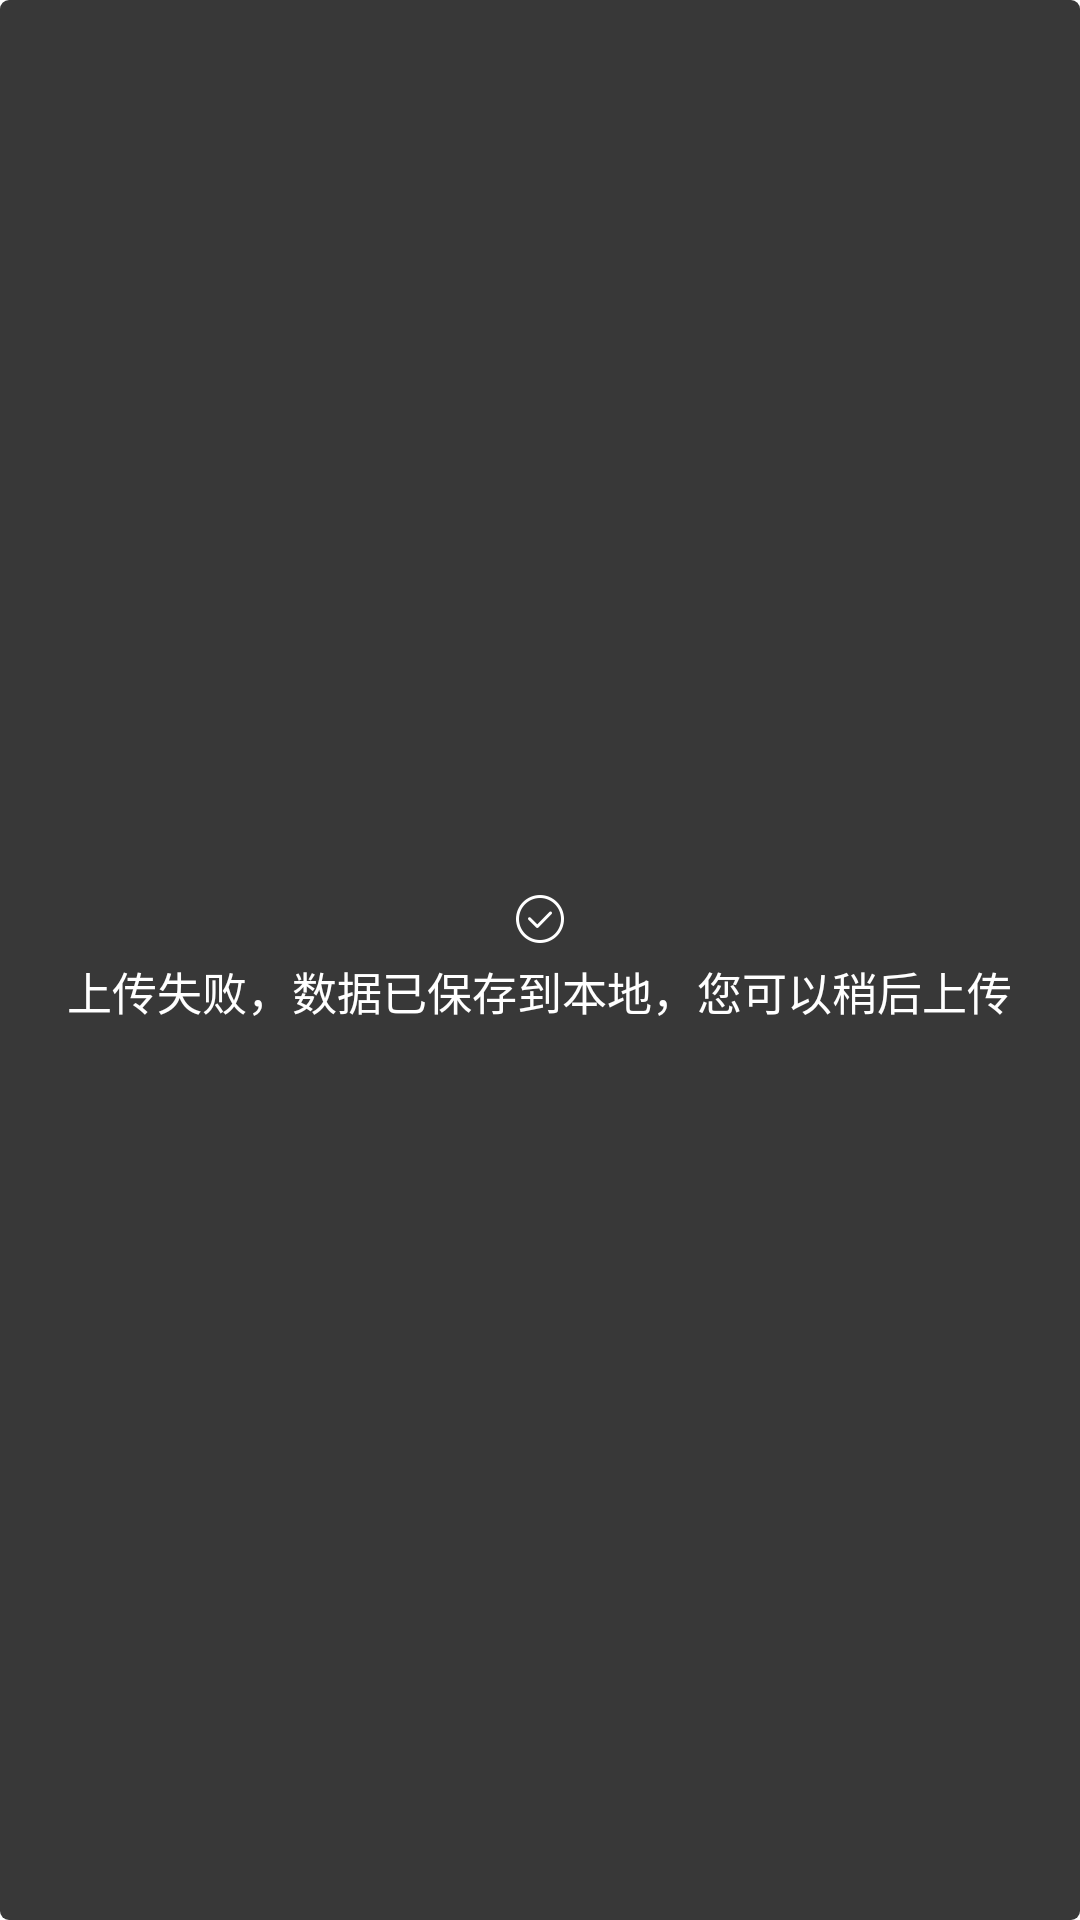

Screen size 1080*1920. Icon name, then its center in pixels as (x,y):
found toast ok: (540,919)
